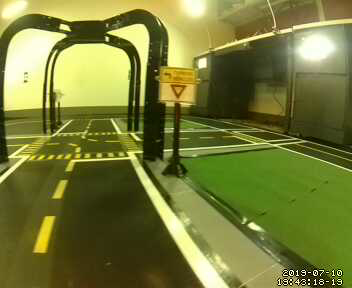Turn Yield: (156, 66, 199, 105)
